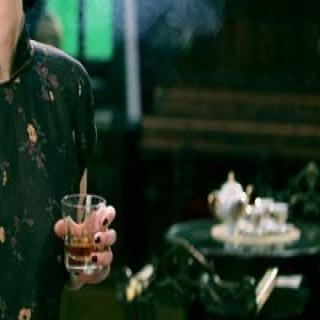smoke: (0, 0, 232, 34)
